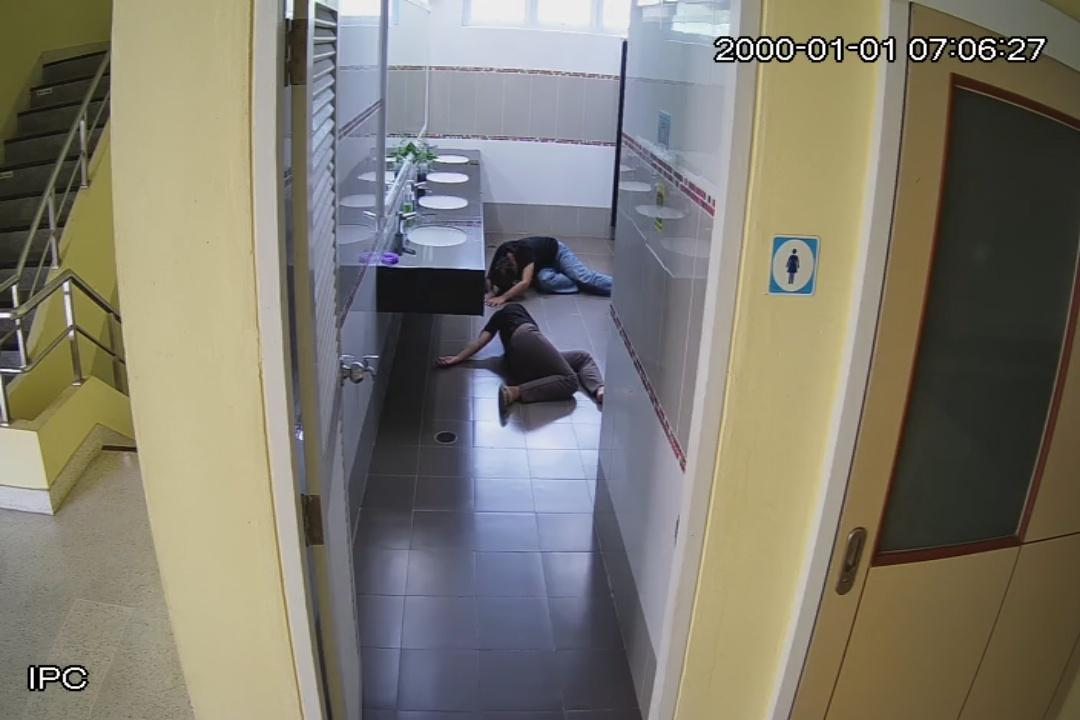fall: (430, 298, 610, 422), (480, 232, 636, 298)
